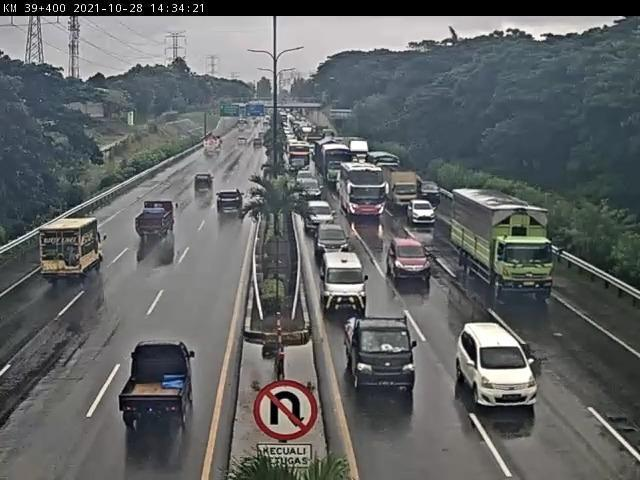bus: (342, 162, 389, 216)
car: (451, 320, 541, 411), (117, 337, 197, 421), (341, 315, 417, 393), (321, 251, 369, 316), (387, 237, 433, 282), (316, 220, 351, 260), (303, 199, 339, 236), (406, 197, 437, 229), (299, 180, 325, 203), (419, 181, 440, 206), (296, 169, 315, 189)
truck: (452, 187, 559, 301), (42, 218, 105, 281), (136, 201, 182, 242), (385, 170, 421, 213), (325, 146, 354, 184)
